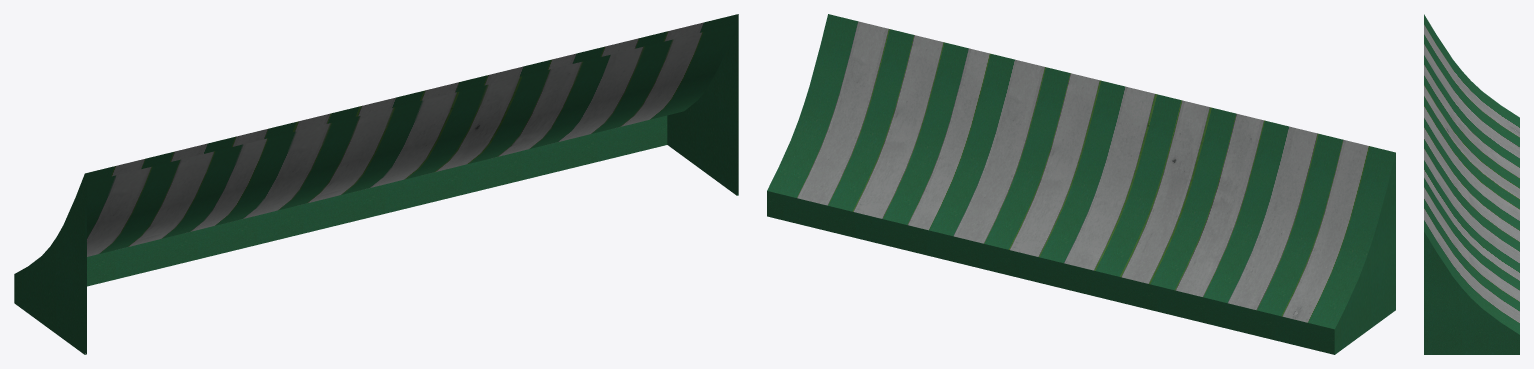
3 views of the same model, side by side, from view 1: azimuth 30°, elevation 25°; view 2: azimuth 150°, elevation 25°; view 3: azimuth 270°, elevation 25° (orthographic). The views are drawn at different scales.
Visible parts, largest first — view 1: Awn (6); view 2: Awn (6); view 3: Awn (6).
Part boxes in pixels (bbox=[...]): Awn (6): bbox=[14, 14, 738, 354]; Awn (6): bbox=[767, 14, 1395, 354]; Awn (6): bbox=[1424, 14, 1519, 354].
Bounding box in the file's own units: 1278 × 339 × 239.
